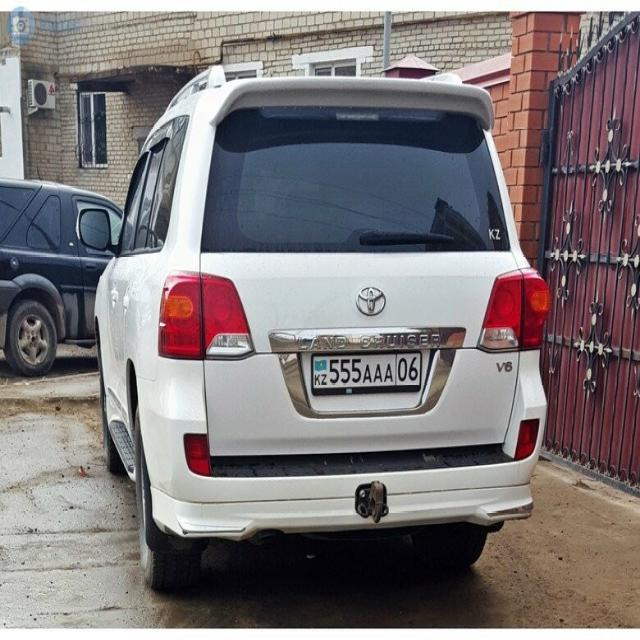car: (92, 63, 550, 591), (0, 176, 126, 376)
license: (310, 349, 422, 394)
